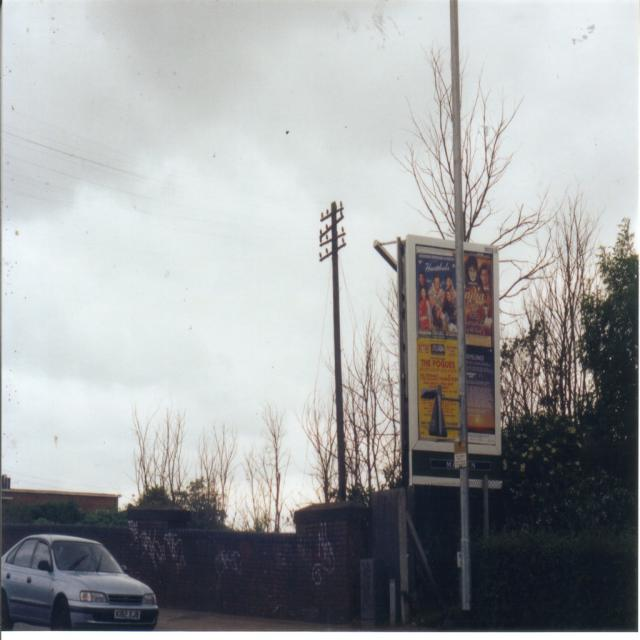car: (0, 538, 146, 635)
